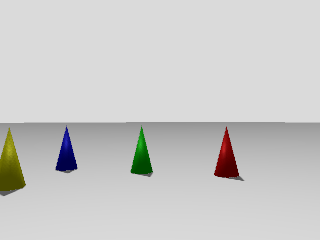blue: (53, 125, 78, 171)
green: (127, 125, 154, 174)
red: (209, 127, 240, 177)
yellow: (0, 127, 28, 190)
